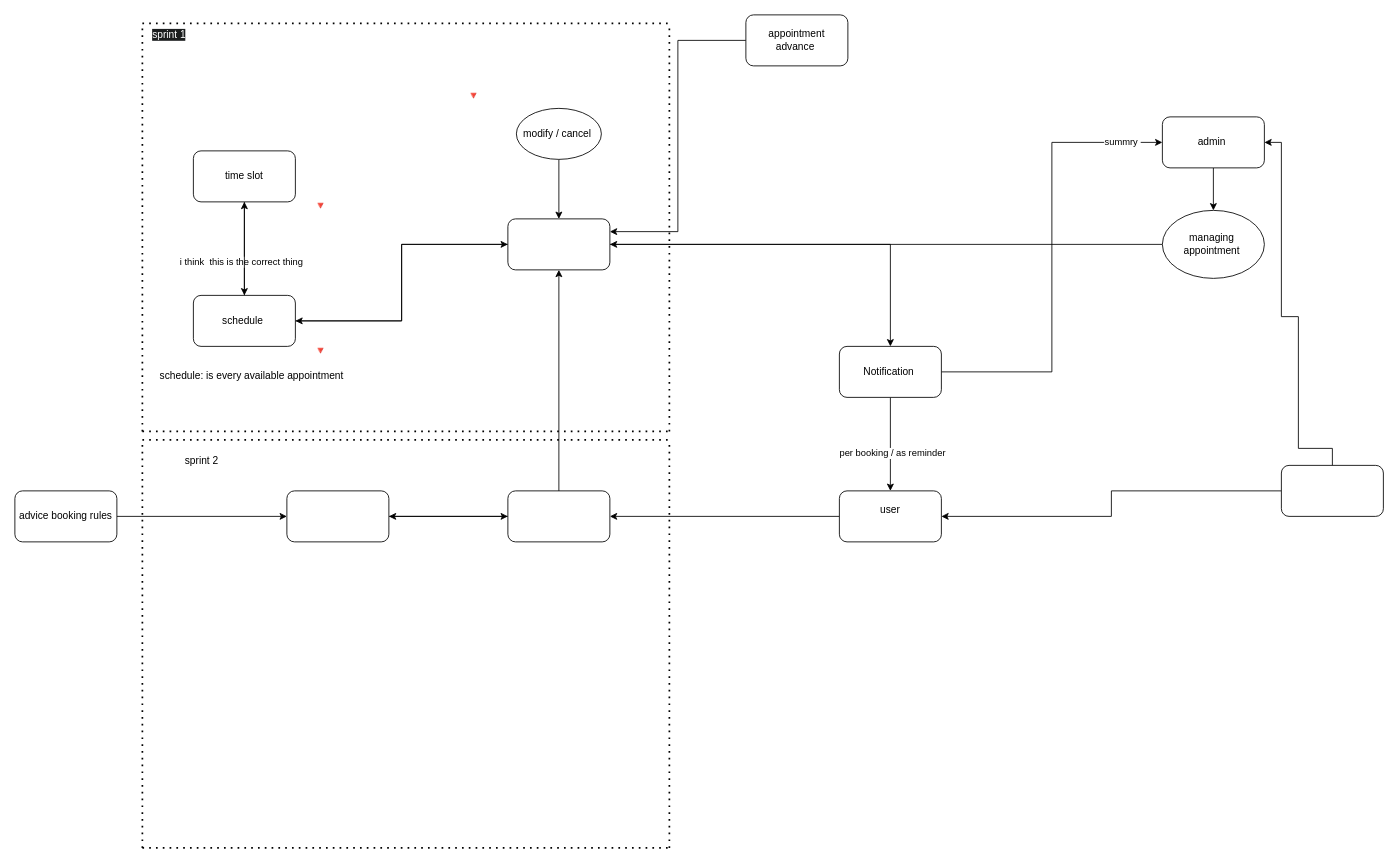
Image size: 1398x864. Some labels were removed from this diagram. Each missing label, with the centre of its shape:
"Appointment" goes at point 558,244.
"Book an appointment" goes at point 558,516.
"booking rules" goes at point 337,516.
"ROLE" goes at point 1332,490.
